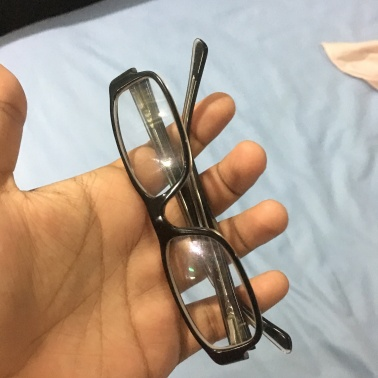glasses: (105, 38, 271, 360)
